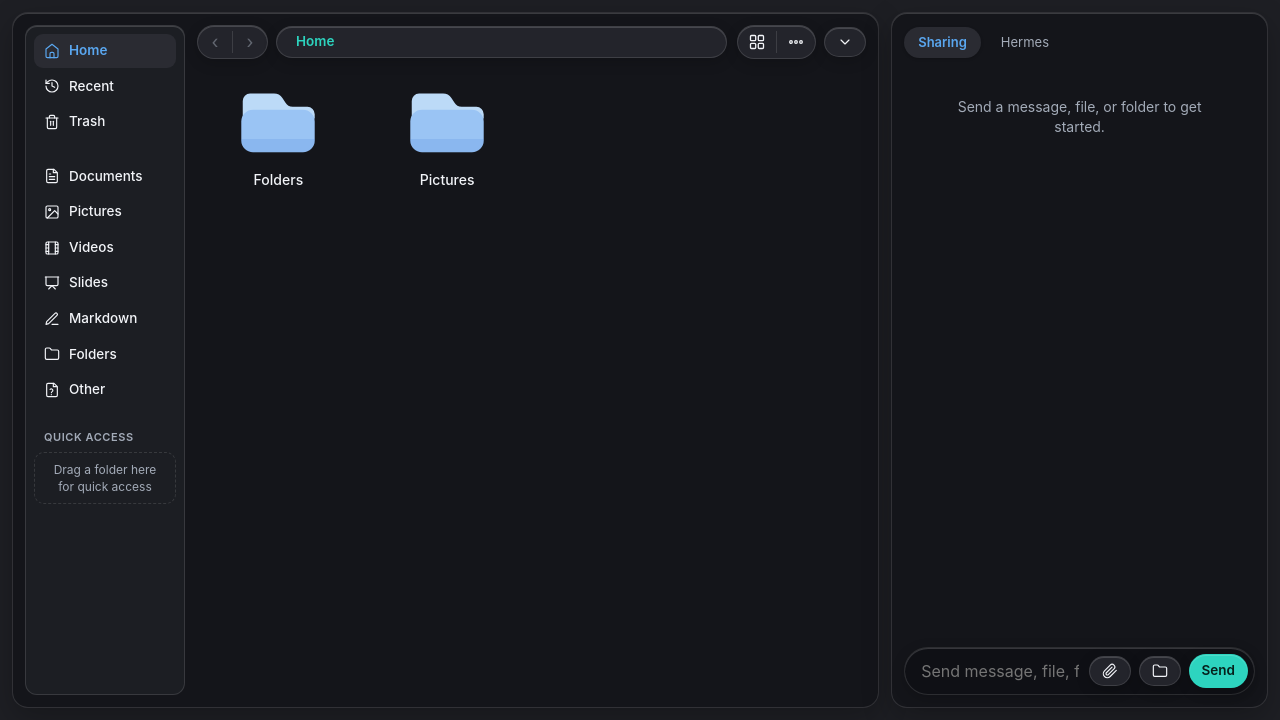
PrivyCloudTab file-system sharing › opens a file in the viewer and keeps the chat visible
Double-click the 1st button titled "Open Pictures": {"x": 447, "y": 149} [366,67,529,231]
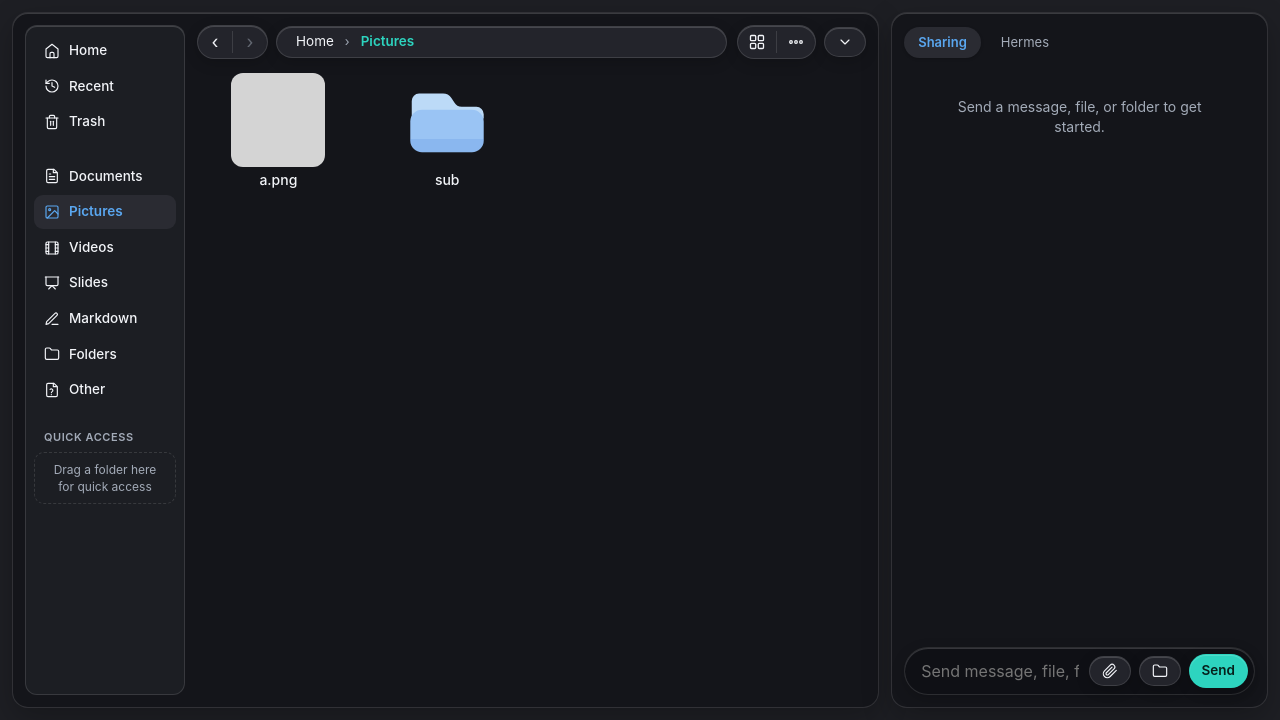
Double-click the button "a.png": {"x": 278, "y": 149} [197,67,360,231]
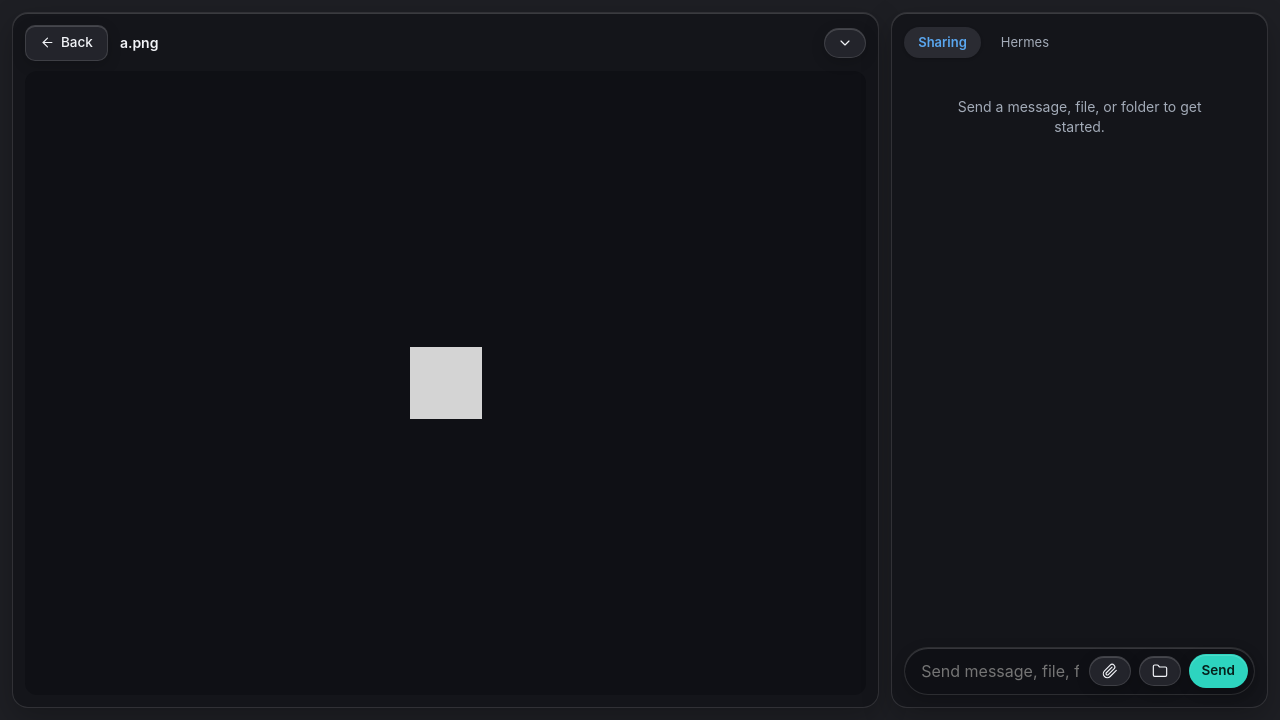
Expected: the field with placeholder "Send message, file, folder, or @hermes…" is shown, [919,659,1080,684]
Result: the button titled "Back to sharing" is shown at [25,25,108,61]
